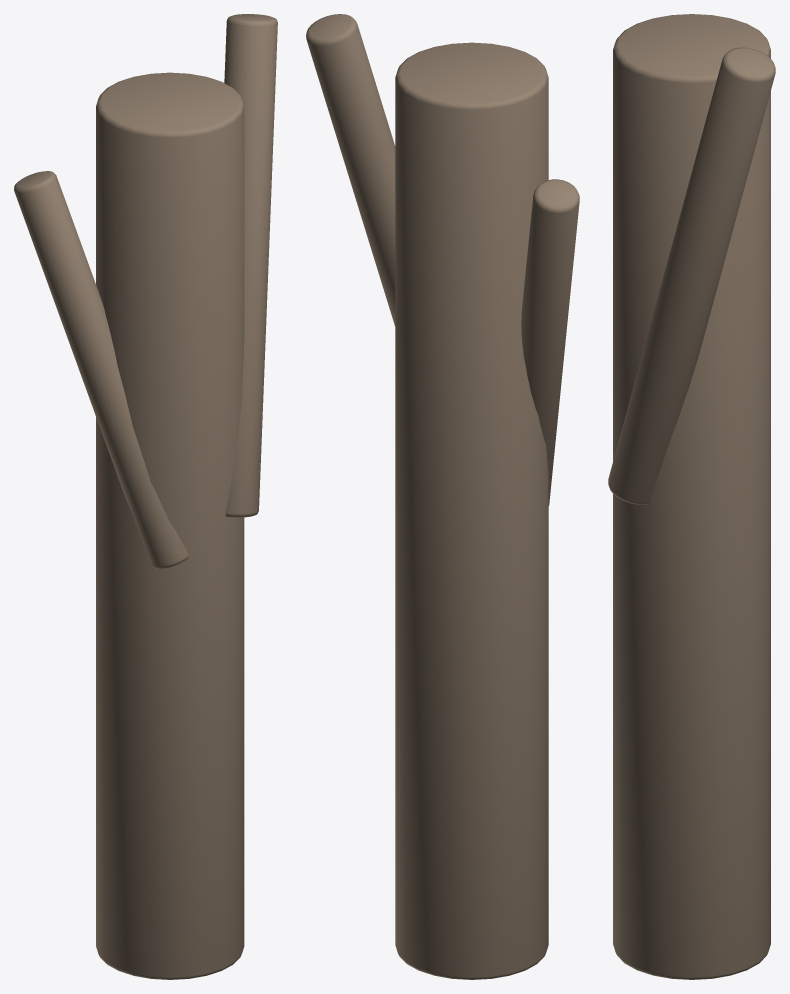
File: foliage_tree_dead_a.glb
3 renders of one model, left to right at view 1: azimuth 30°, elevation 25°; view 2: azimuth 150°, elevation 25°; view 3: azimuth 270°, elevation 25°, orthographic. The views are drawn at different scales.
Parts seen in each view (by area): view 1: FoliageTreeDeadA; view 2: FoliageTreeDeadA; view 3: FoliageTreeDeadA.
Part boxes in pixels (x1,y1,x2,y2): FoliageTreeDeadA: (14,14,277,979); FoliageTreeDeadA: (306,14,579,979); FoliageTreeDeadA: (608,14,775,979).
Bounding box in the file's own units: 0.9236 × 3.05 × 0.4877.
